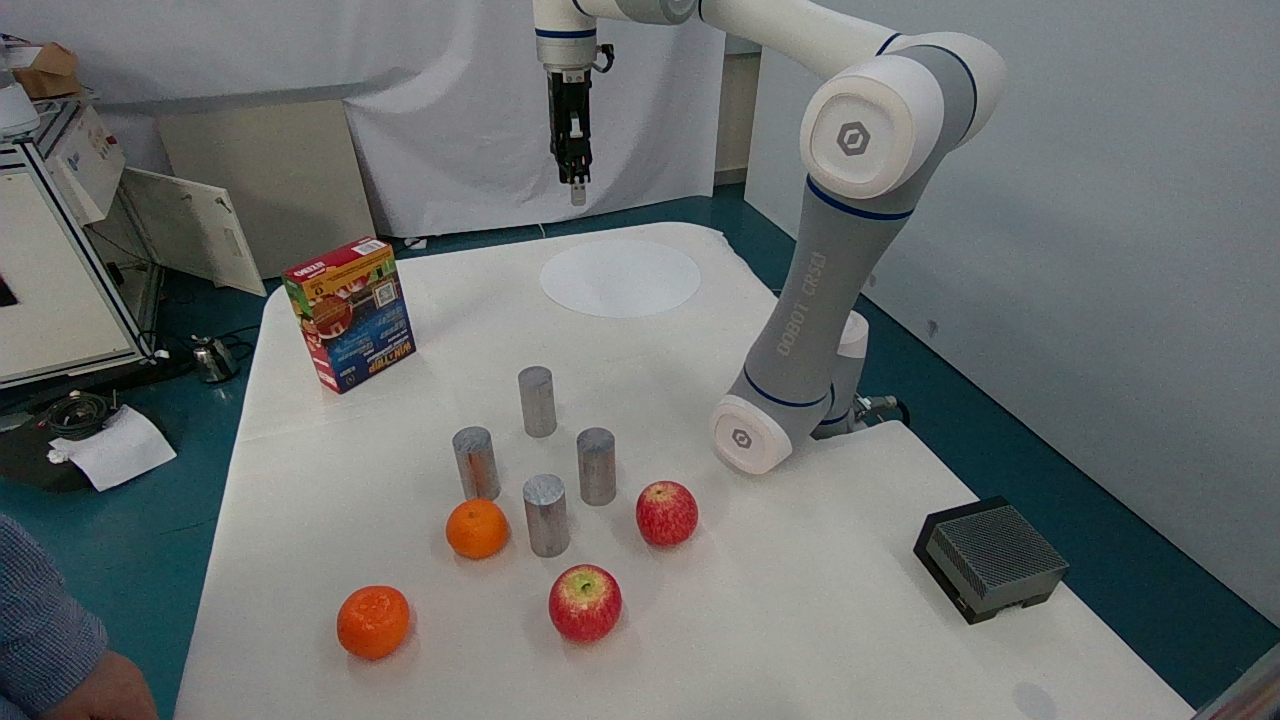apple: (543, 541, 642, 651), (622, 469, 718, 554)
metal rod: (503, 467, 580, 561), (563, 415, 631, 508), (439, 425, 504, 508), (509, 362, 568, 442)
orange: (334, 578, 421, 661), (431, 492, 514, 567)
